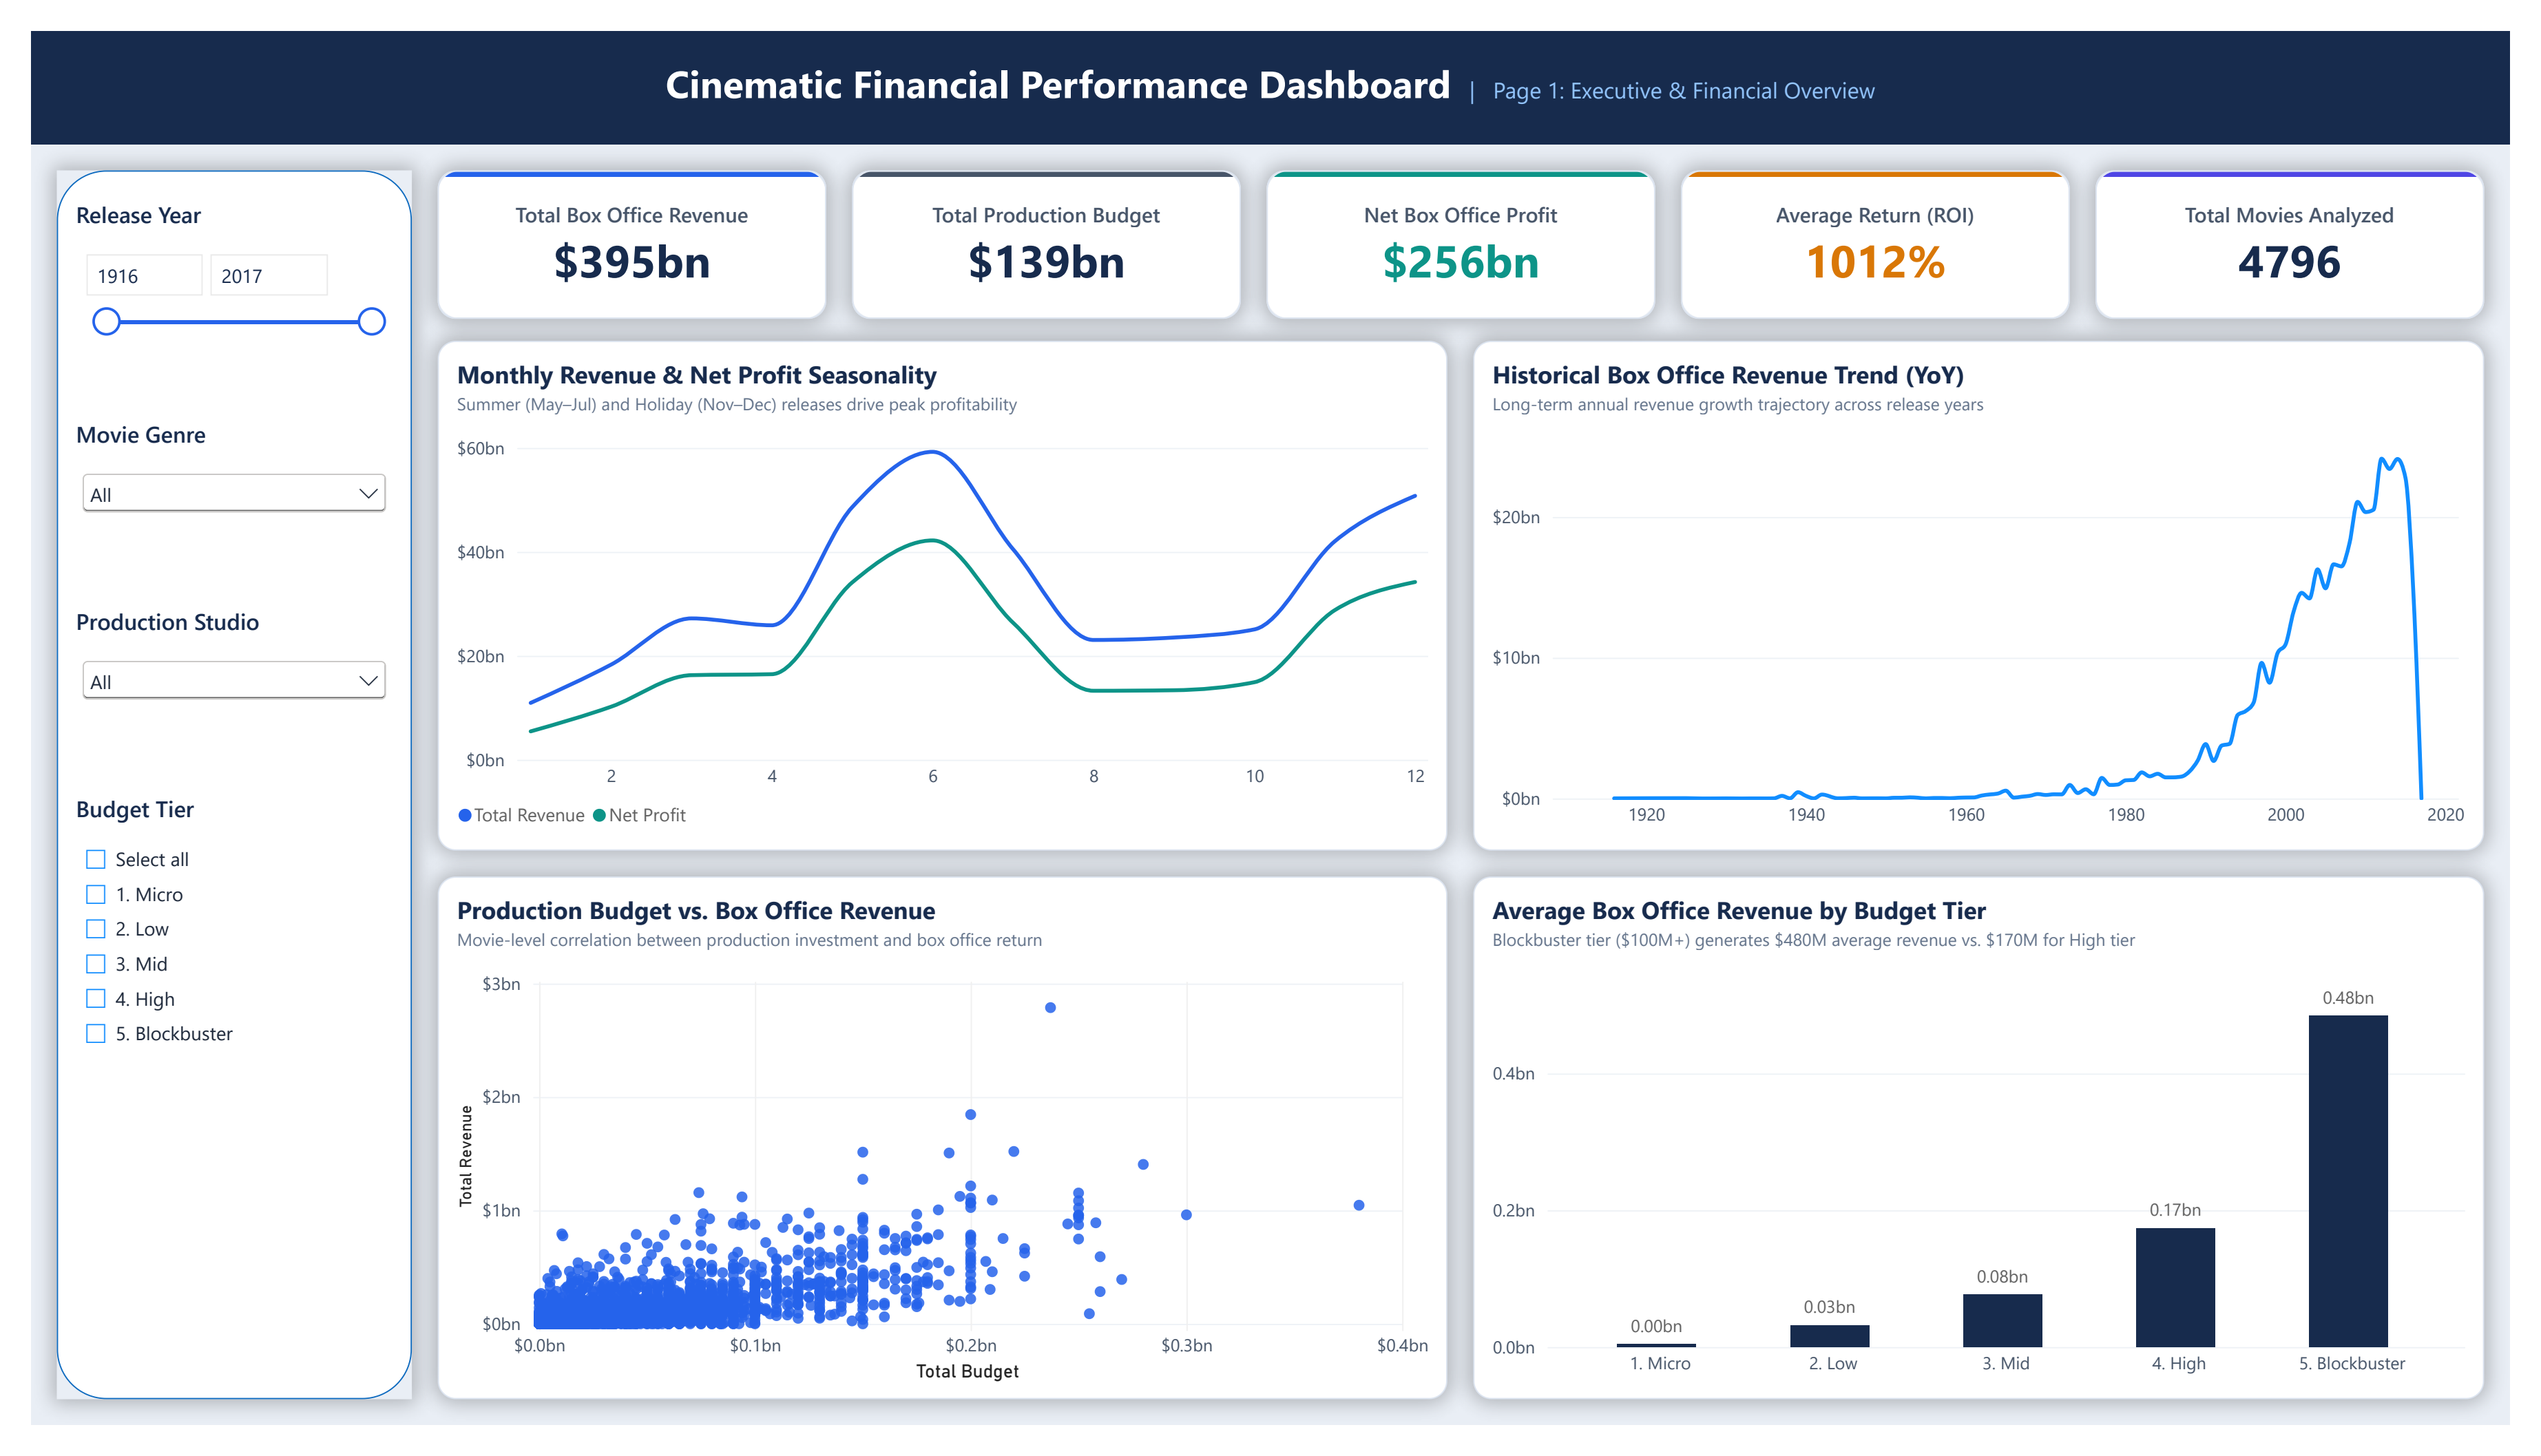

Layout of this report page (visuals, bound fields, positions):
{"tool":"powerbi","page":{"name":"1. Executive & Financial Overview","canvas":[1920,1080],"ordinal":0},"visuals":[{"type":"shape","box":[0,0,1920,88],"z":0},{"type":"shape","box":[20,108,275,952],"z":1000},{"type":"textbox","box":[20,6,1880,80],"z":2000},{"type":"lineChart","title":"Monthly Revenue & Net Profit Seasonality","fields":{"Category":["clean_movies.release_month"],"Y":["_Measures.Total Revenue","_Measures.Net Profit"]},"box":[315,240,782,395],"z":3000},{"type":"lineChart","title":"Historical Box Office Revenue Trend (YoY)","fields":{"Category":["clean_movies.release_year"],"Y":["_Measures.Total Revenue"]},"box":[1117,240,783,395],"z":4000},{"type":"scatterChart","title":"Production Budget vs. Box Office Revenue","fields":{"Category":["clean_movies.title"],"X":["_Measures.Total Budget"],"Y":["_Measures.Total Revenue"]},"box":[315,655,782,405],"z":5000},{"type":"clusteredColumnChart","title":"Average Box Office Revenue by Budget Tier","fields":{"Category":["clean_movies.Budget Tier"],"Y":["_Measures.Avg Revenue"]},"box":[1117,655,783,405],"z":6000},{"type":"cardVisual","title":"1","fields":{"Data":["_Measures.Total Revenue"]},"box":[315,108,301,115],"z":7000},{"type":"cardVisual","title":"1","fields":{"Data":["_Measures.Total Budget"]},"box":[636,108,301,115],"z":8000},{"type":"cardVisual","title":"1","fields":{"Data":["_Measures.Net Profit"]},"box":[957,108,301,115],"z":9000},{"type":"cardVisual","title":"1","fields":{"Data":["_Measures.Avg ROI"]},"box":[1278,108,301,115],"z":10000},{"type":"cardVisual","title":"1","fields":{"Data":["_Measures.Total Movies"]},"box":[1599,108,301,115],"z":11000},{"type":"slicer","title":"Budget Tier","fields":{"Values":["clean_movies.Budget Tier"]},"box":[35,590,245,290],"z":12000},{"type":"slicer","title":"Production Studio","fields":{"Values":["movie_companies.company_name"]},"box":[35,445,245,120],"z":13000},{"type":"slicer","title":"Movie Genre","fields":{"Values":["movie_genres.genre_name"]},"box":[35,300,245,120],"z":14000},{"type":"slicer","title":"Release Year","fields":{"Values":["clean_movies.release_year"]},"box":[35,130,245,145],"z":15000}]}

Visuals, with their boxes in screenshot pixels (x1, y1, x2, y2), scaled from the page's 1920x1080 canvas onto the 2541x1456 screenshot:
shape: [left=0, top=0, right=2540, bottom=118]
shape: [left=26, top=146, right=390, bottom=1429]
textbox: [left=26, top=8, right=2515, bottom=116]
"Monthly Revenue & Net Profit Seasonality" lineChart: [left=417, top=324, right=1452, bottom=856]
"Historical Box Office Revenue Trend (YoY)" lineChart: [left=1478, top=324, right=2515, bottom=856]
"Production Budget vs. Box Office Revenue" scatterChart: [left=417, top=883, right=1452, bottom=1429]
"Average Box Office Revenue by Budget Tier" clusteredColumnChart: [left=1478, top=883, right=2515, bottom=1429]
"1" cardVisual: [left=417, top=146, right=815, bottom=301]
"1" cardVisual: [left=841, top=146, right=1240, bottom=301]
"1" cardVisual: [left=1266, top=146, right=1665, bottom=301]
"1" cardVisual: [left=1691, top=146, right=2090, bottom=301]
"1" cardVisual: [left=2116, top=146, right=2515, bottom=301]
"Budget Tier" slicer: [left=46, top=795, right=370, bottom=1186]
"Production Studio" slicer: [left=46, top=600, right=370, bottom=761]
"Movie Genre" slicer: [left=46, top=405, right=370, bottom=566]
"Release Year" slicer: [left=46, top=176, right=370, bottom=371]
